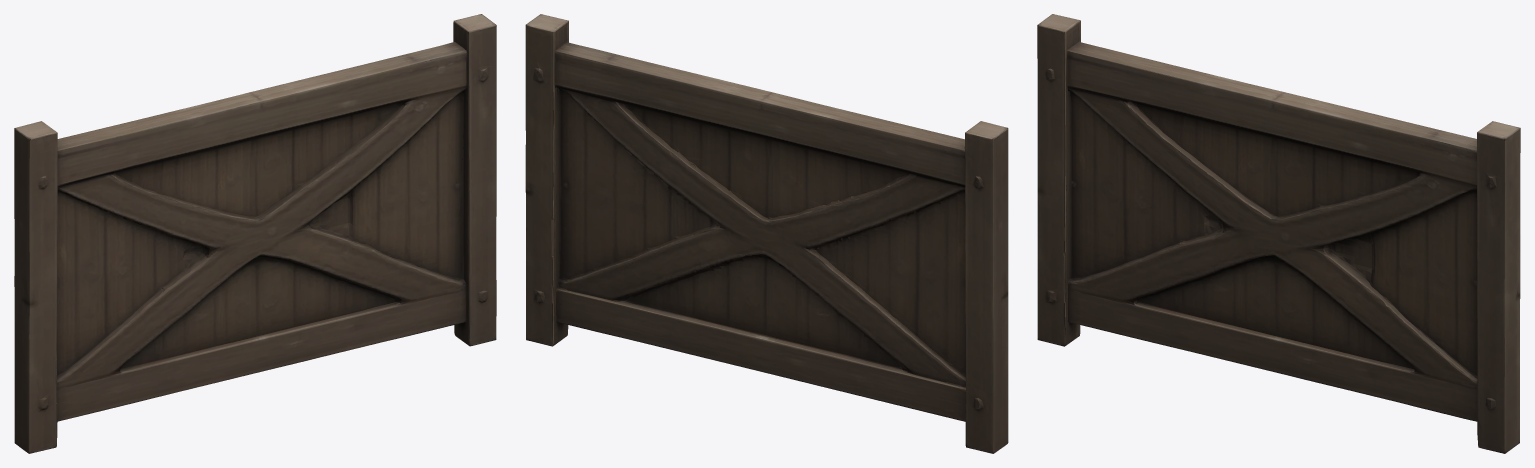
File: wood_gate.glb
The picture shows the model from 3 angles, left to right: view 1: azimuth 30°, elevation 25°; view 2: azimuth 150°, elevation 25°; view 3: azimuth 330°, elevation 25°; orthographic projection.
Visible parts, largest first — view 1: geometry_0; view 2: geometry_0; view 3: geometry_0.
Boxes of the visible parts, left/top/right/bottom form: geometry_0: left=14, top=14, right=496, bottom=453; geometry_0: left=525, top=14, right=1008, bottom=453; geometry_0: left=1037, top=14, right=1520, bottom=453.
Size of the model in its own units: 1 by 0.6446 by 0.0657.
1 material, 1 textured.
